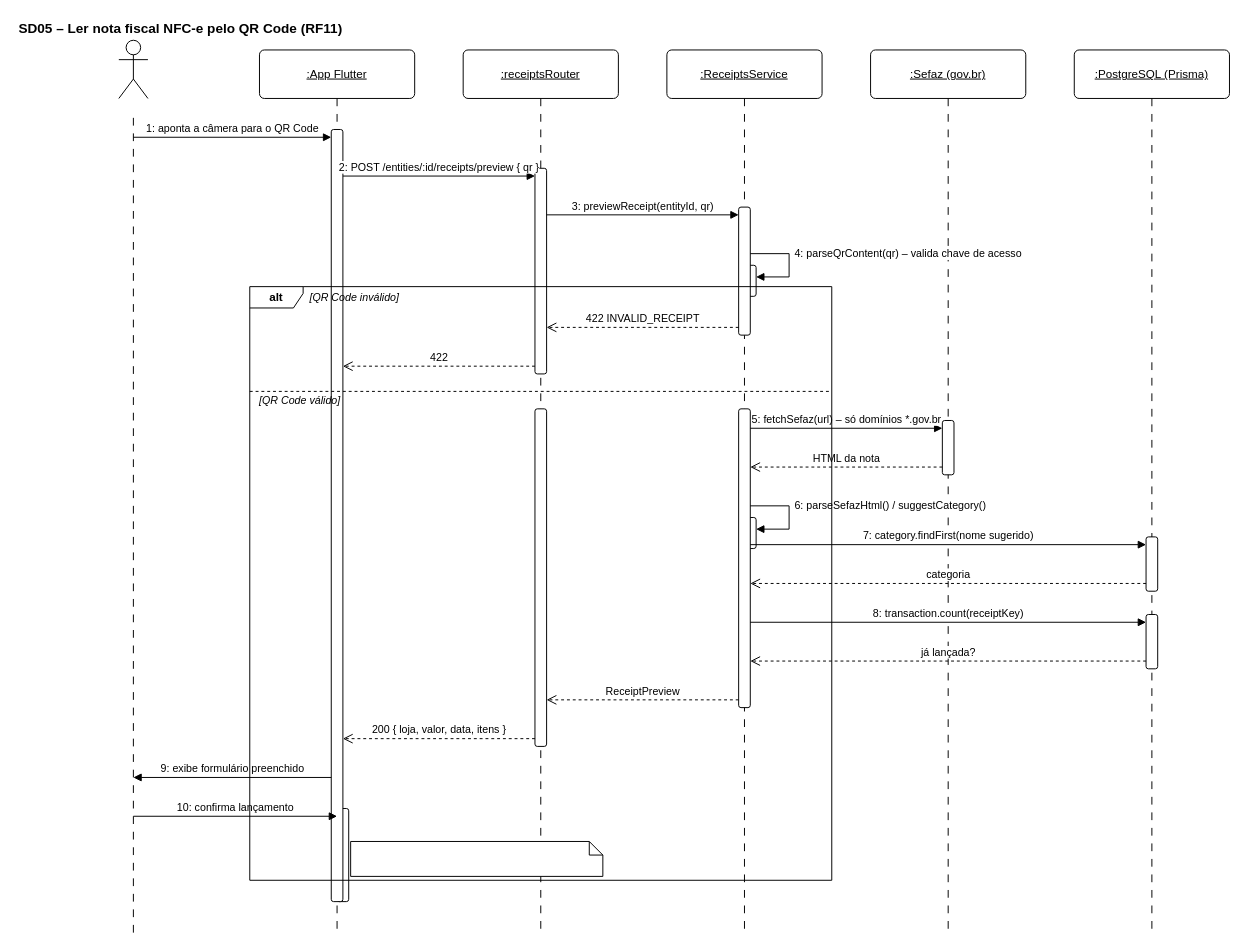
This 1246x951 diagram has some shape labels left out. The centre of each missing label's shape, as x and y in pixels:
"Confirmar envia POST /transactions com receiptKey — continua no SD02" goes at point (476, 858).
"Usuário" goes at point (133, 68).
